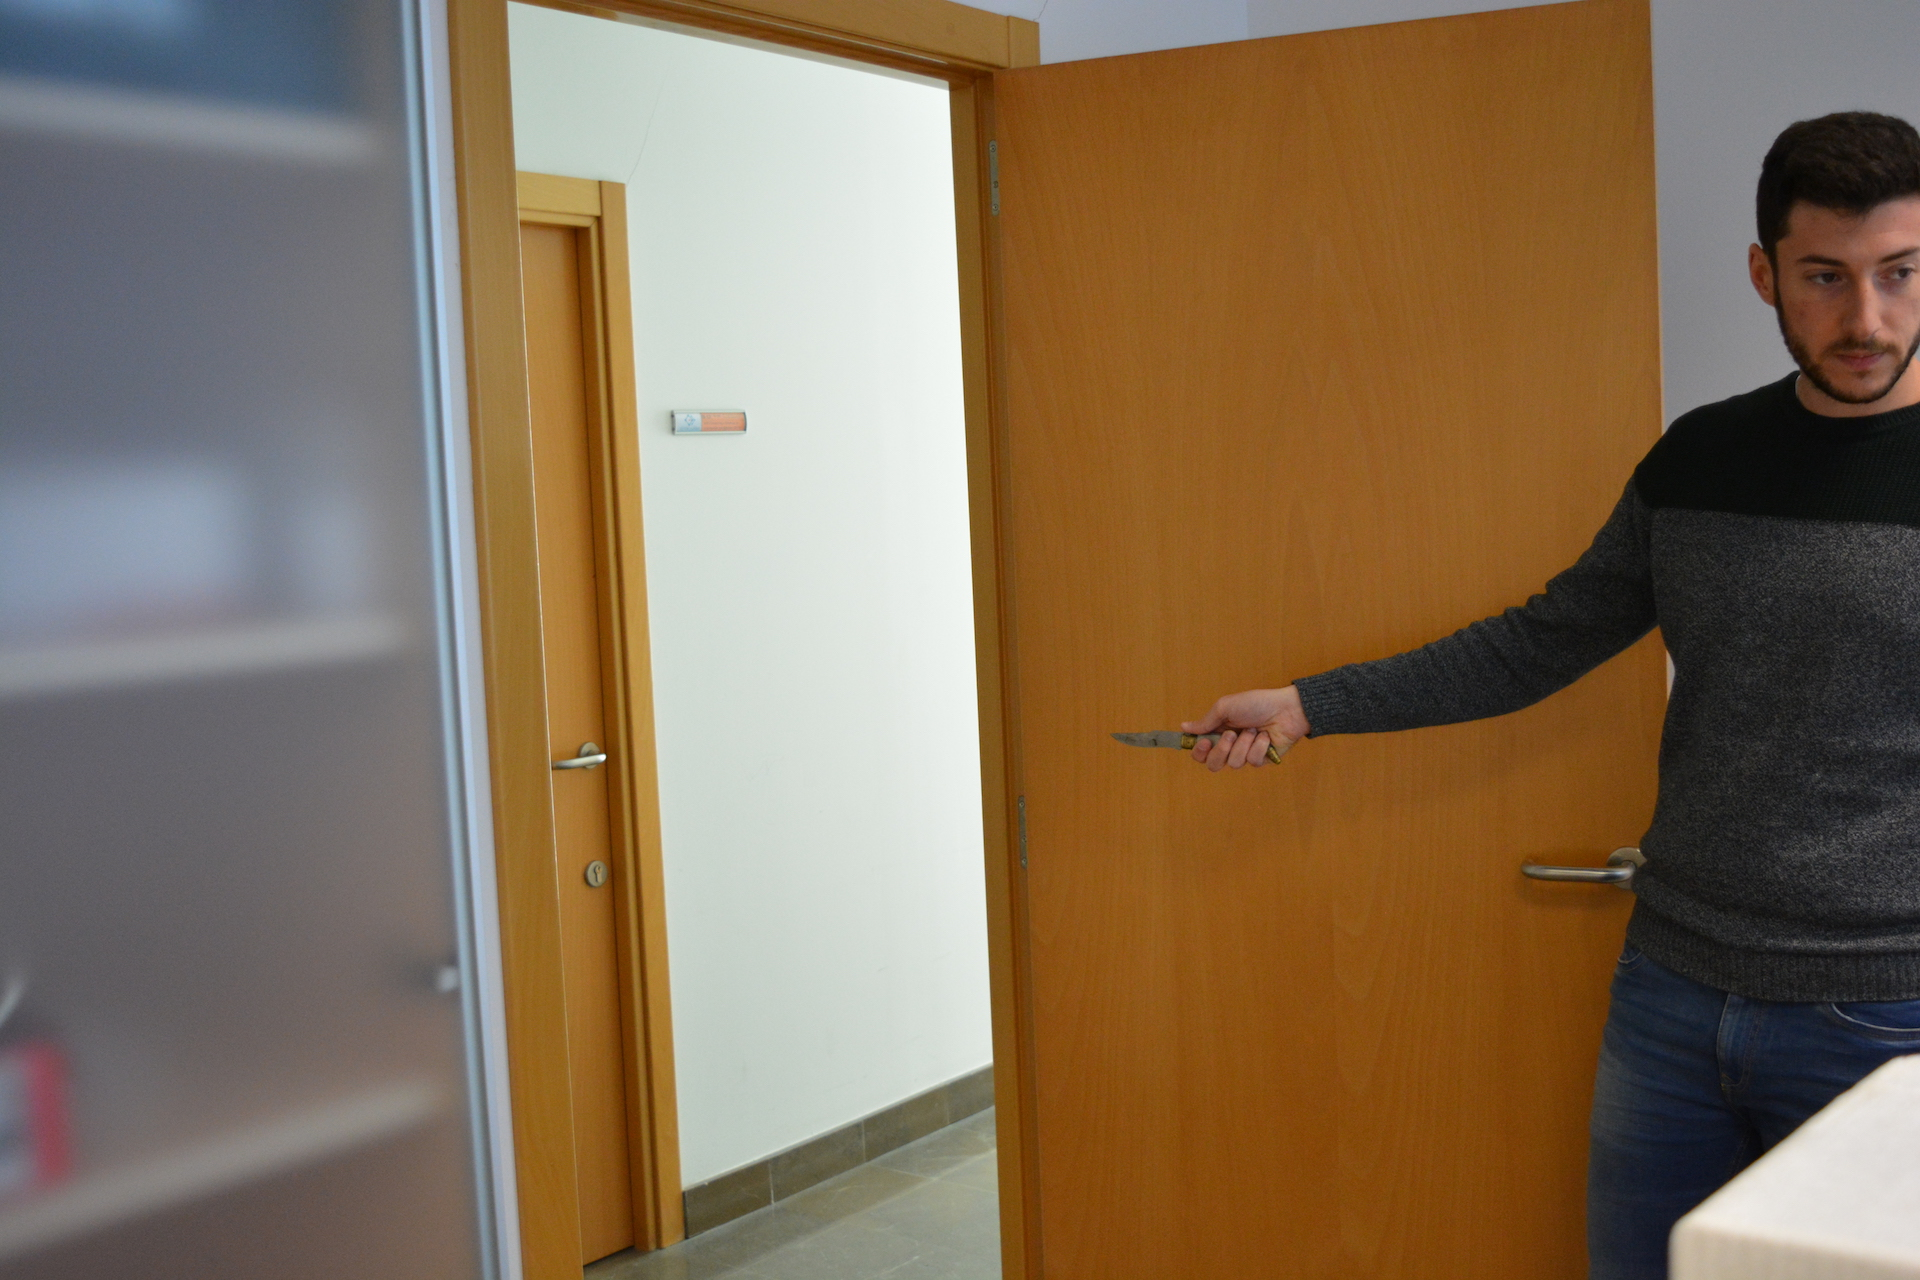knife: (1101, 719, 1289, 773)
